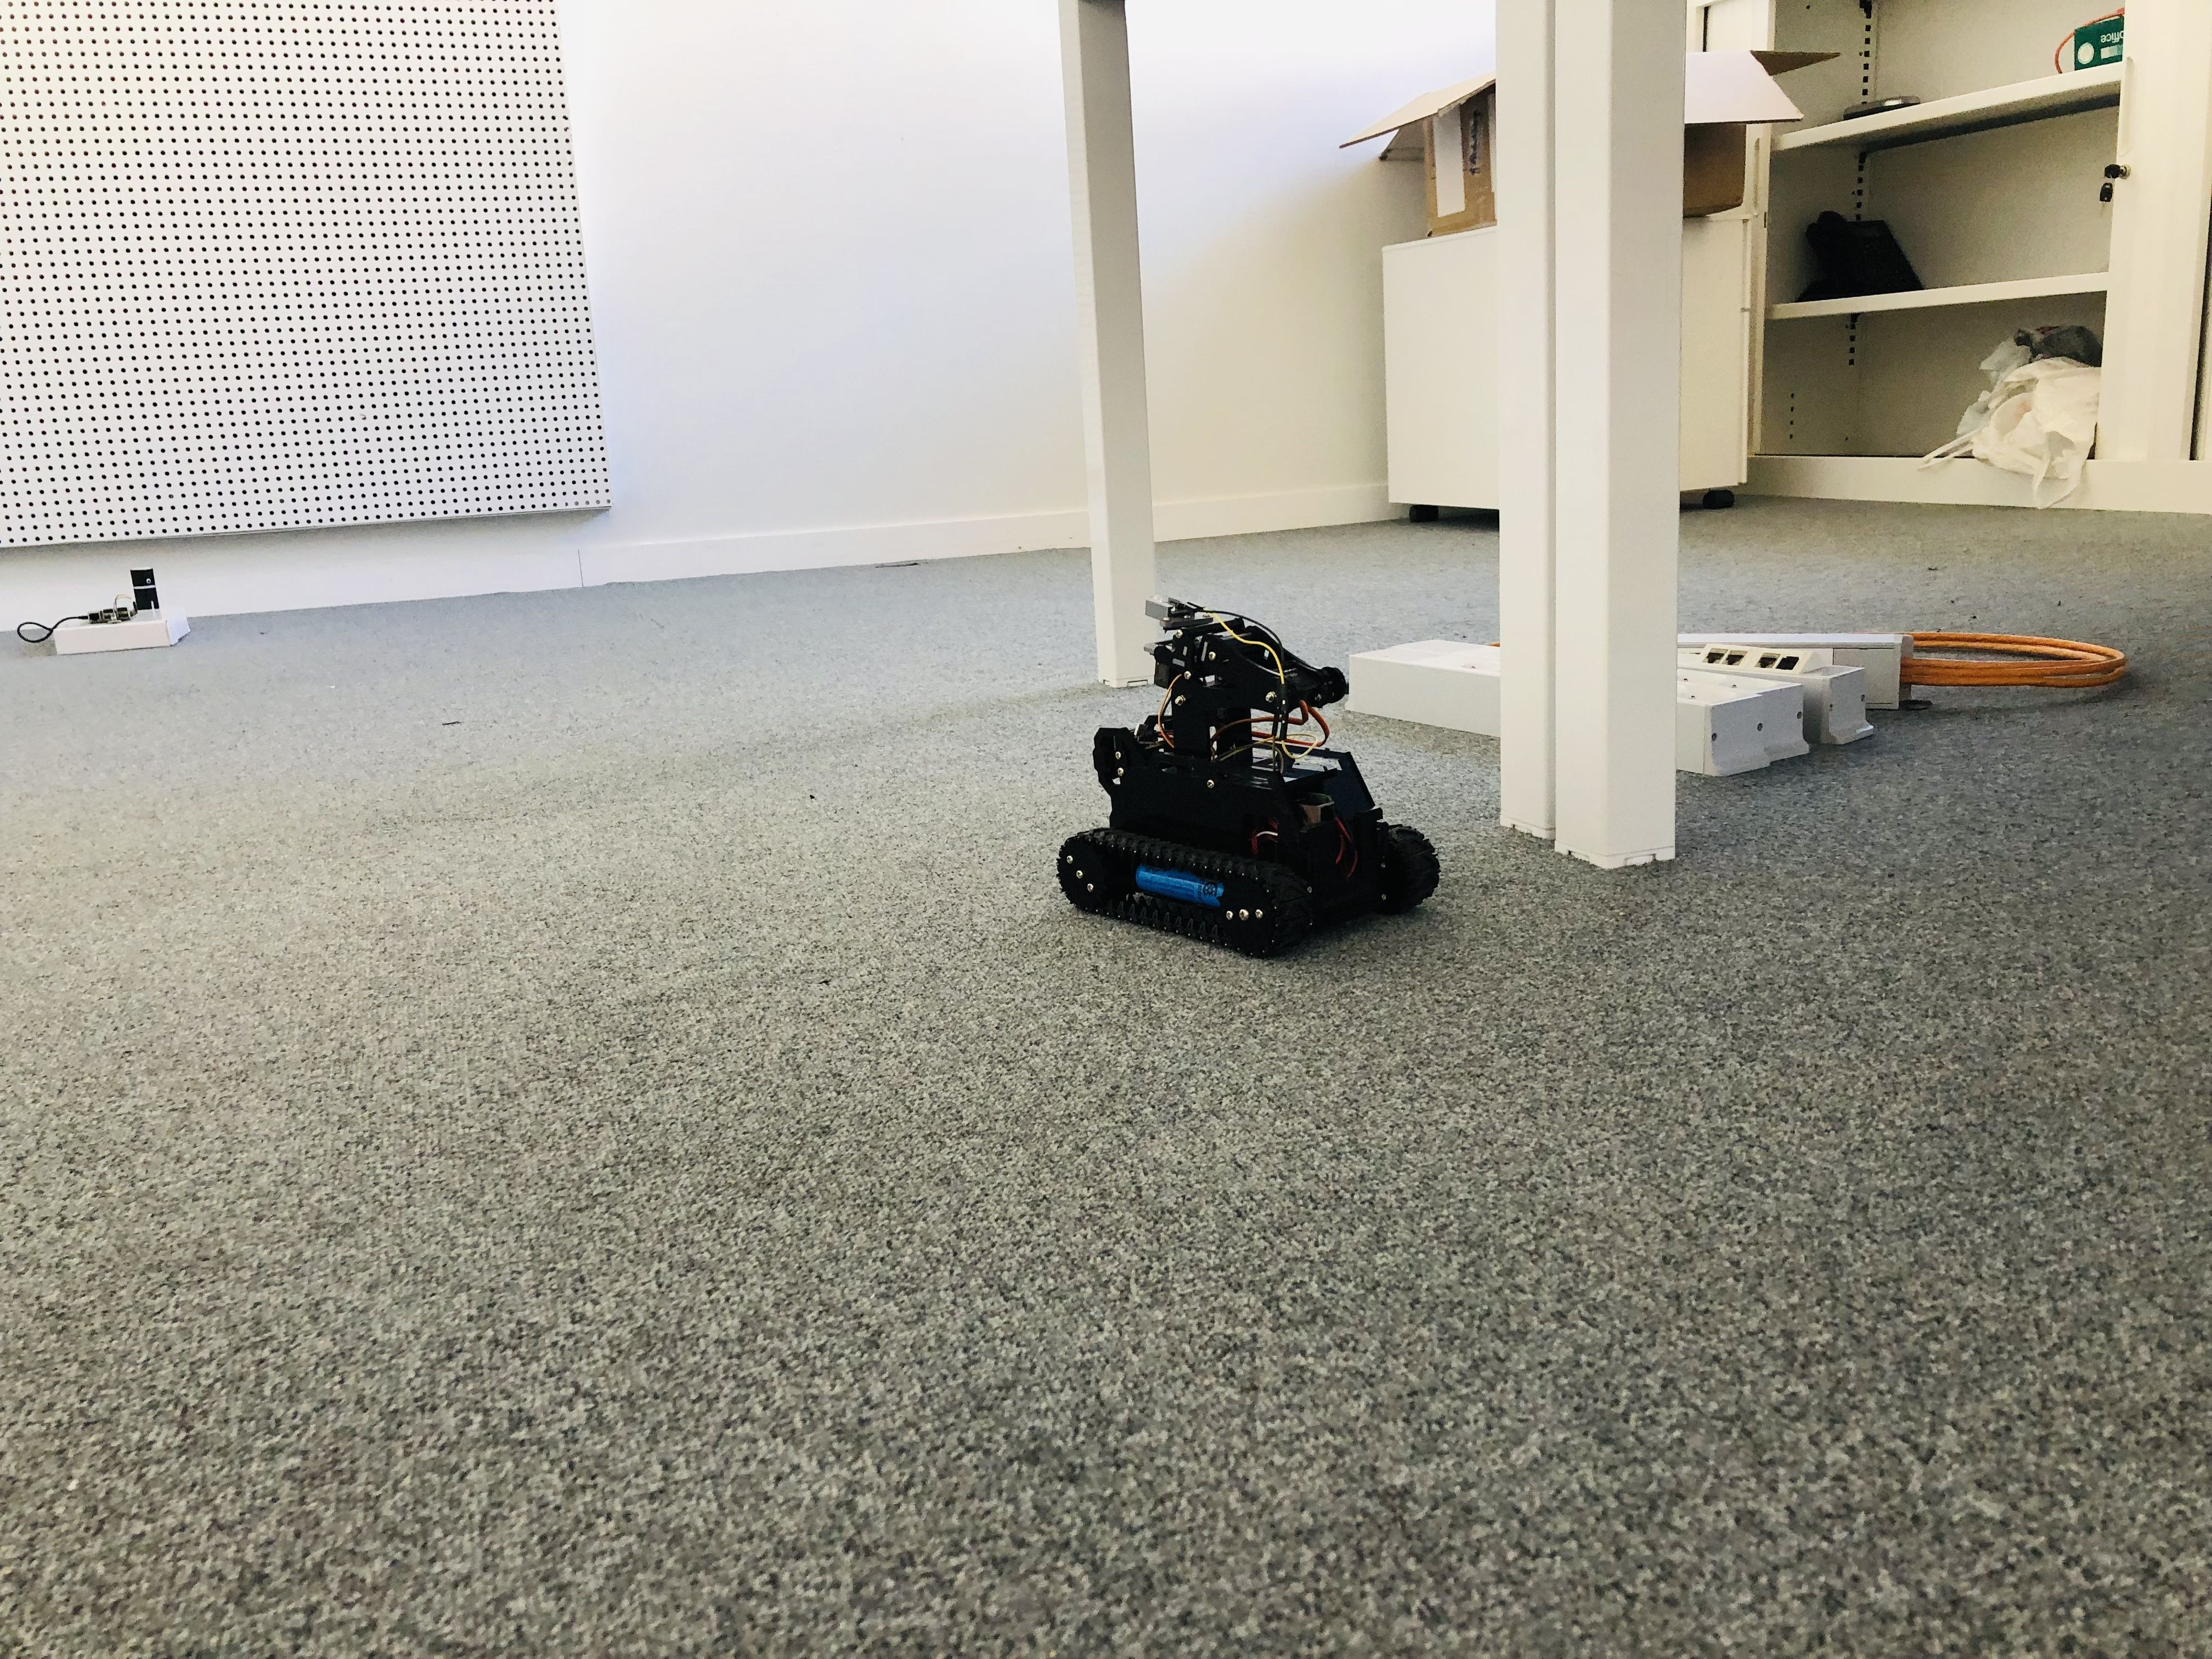rasptank: (1052, 596, 1446, 962)
